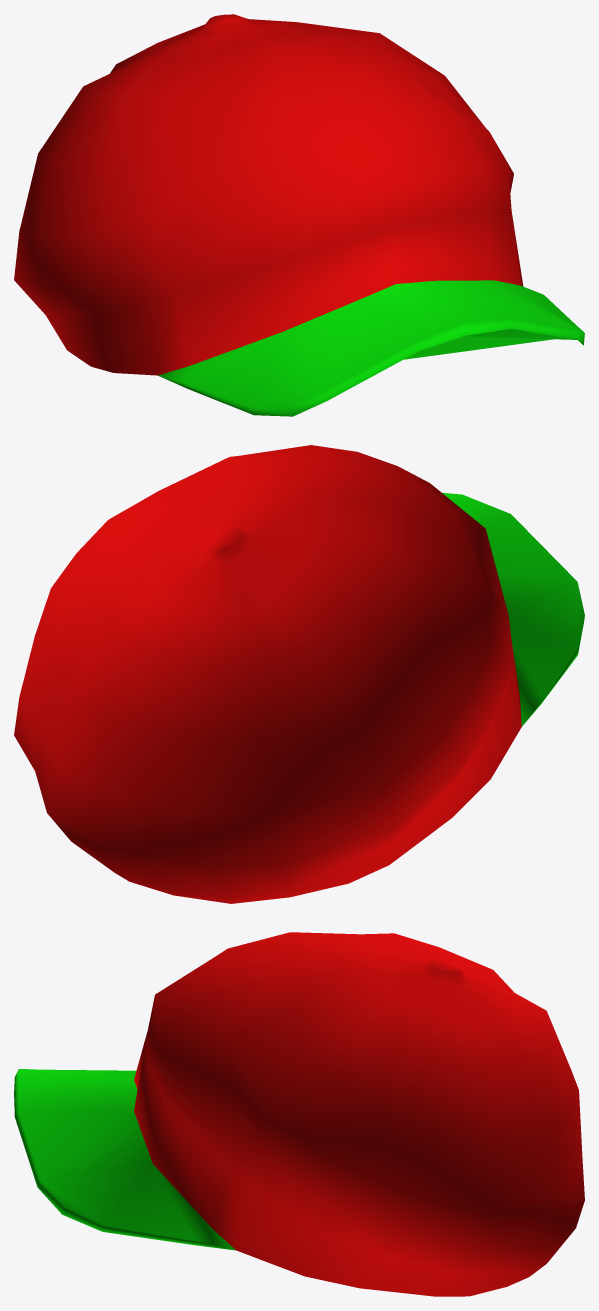
File: Hat_SummerCap.glb
3 views of the same model, one above another, from view 1: azimuth 30°, elevation 25°; view 2: azimuth 150°, elevation 25°; view 3: azimuth 270°, elevation 25° (orthographic). The views are drawn at different scales.
Visible parts, largest first — view 1: Hat_SummerHat; view 2: Hat_SummerHat; view 3: Hat_SummerHat.
Boxes of the visible parts, x1=… form: Hat_SummerHat: x1=14, y1=14, x2=584, y2=416; Hat_SummerHat: x1=14, y1=445, x2=584, y2=903; Hat_SummerHat: x1=14, y1=932, x2=584, y2=1296.
Bounding box in the file's own units: 0.3012 × 0.223 × 0.3882.
